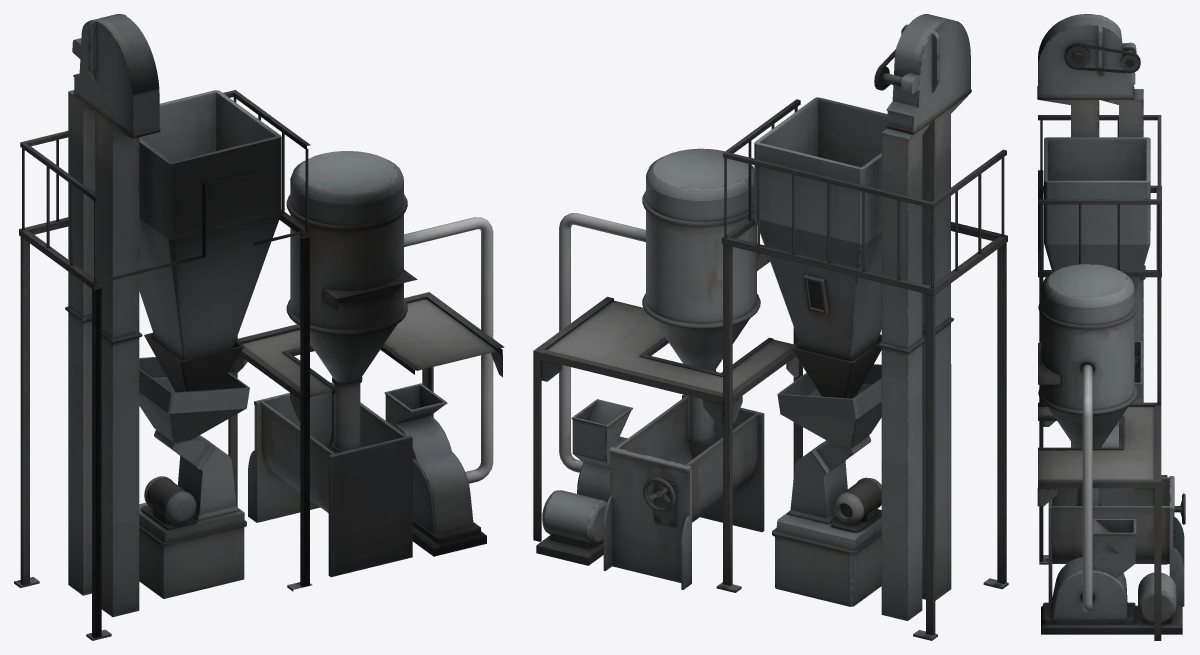
3 renders of one model, left to right at view 1: azimuth 30°, elevation 25°; view 2: azimuth 150°, elevation 25°; view 3: azimuth 270°, elevation 25°, orthographic. The views are drawn at different scales.
Visible parts, largest first — view 1: body0_model0_lod0_mesh0; view 2: body0_model0_lod0_mesh0; view 3: body0_model0_lod0_mesh0.
Part boxes in pixels (left/top/right/bottom): body0_model0_lod0_mesh0: left=14, top=14, right=504, bottom=640; body0_model0_lod0_mesh0: left=533, top=14, right=1008, bottom=640; body0_model0_lod0_mesh0: left=1037, top=14, right=1185, bottom=640.
Size of the model in its own units: 264 by 343 by 96.63.
Materials: 1 (1 with a texture image).
